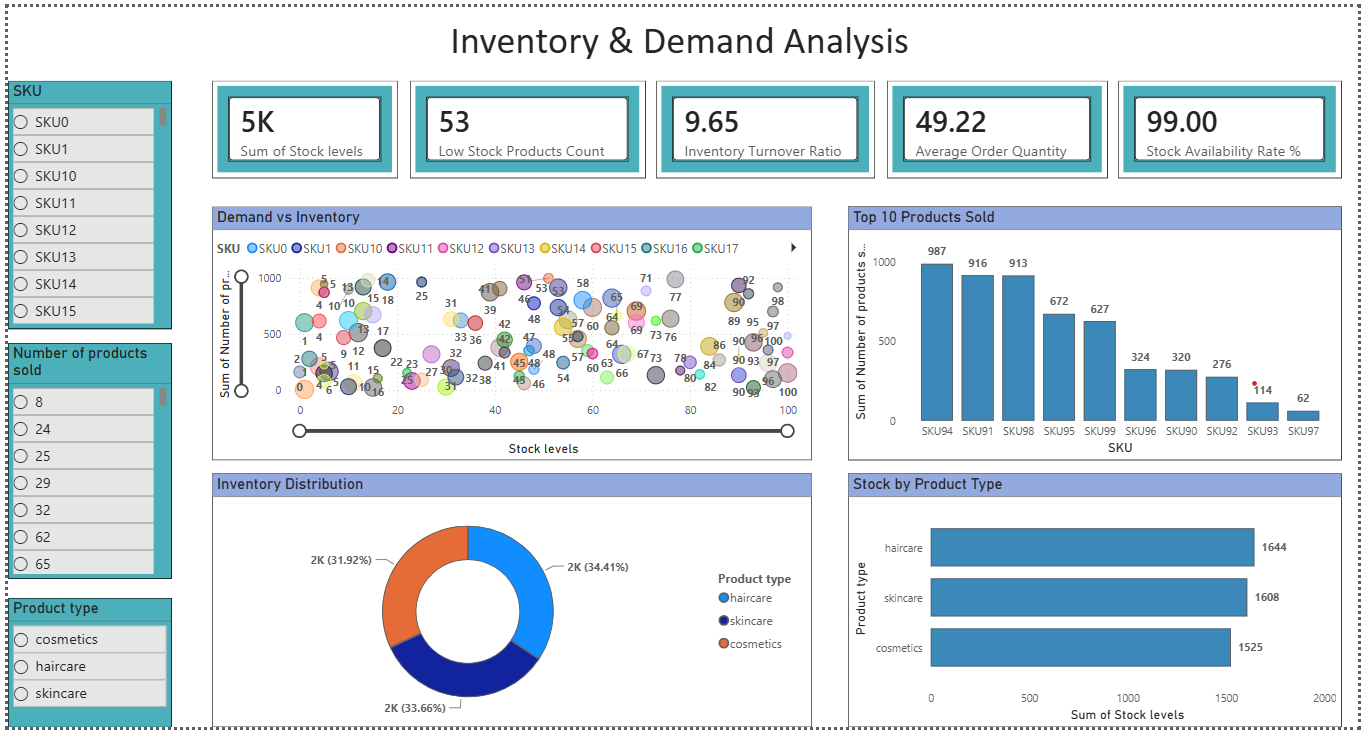

This screenshot's page, from the dashboard's own definition file:
{"tool":"powerbi","page":{"name":"Page 2","canvas":[1500,800],"ordinal":1},"visuals":[{"type":"cardVisual","fields":{"Data":["project_supply_chain_data supply_chain_data.Low Stock Products Count"]},"box":[446.7,81.7,261.7,108.3],"z":0},{"type":"cardVisual","fields":{"Data":["Sum(project_supply_chain_data supply_chain_data.Stock levels)"]},"box":[226.7,81.7,206.7,108.3],"z":1000},{"type":"cardVisual","fields":{"Data":["project_supply_chain_data supply_chain_data.Inventory Turnover Ratio"]},"box":[720,81.7,243.3,108.3],"z":2000},{"type":"cardVisual","fields":{"Data":["project_supply_chain_data supply_chain_data.Average Order Quantity"]},"box":[976.7,81.7,245,108.3],"z":3000},{"type":"cardVisual","fields":{"Data":["project_supply_chain_data supply_chain_data.Stock Availability Rate %"]},"box":[1233.3,81.7,248.3,108.3],"z":4000},{"type":"barChart","title":"Stock by Product Type","fields":{"Category":["project_supply_chain_data supply_chain_data.Product type"],"Y":["Sum(project_supply_chain_data supply_chain_data.Stock levels)"]},"box":[933.3,518.3,548.3,281.7],"z":5000},{"type":"columnChart","title":"Top 10 Products Sold","fields":{"Category":["project_supply_chain_data supply_chain_data.SKU"],"Y":["Sum(project_supply_chain_data supply_chain_data.Number of products sold)"]},"box":[933.3,221.7,548.3,281.7],"z":6000},{"type":"donutChart","title":"Inventory Distribution","fields":{"Category":["project_supply_chain_data supply_chain_data.Product type"],"Y":["Sum(project_supply_chain_data supply_chain_data.Stock levels)"]},"box":[226.7,518.3,666.7,281.7],"z":7000},{"type":"scatterChart","title":"Demand vs Inventory","fields":{"Y":["Sum(project_supply_chain_data supply_chain_data.Number of products sold)"],"X":["project_supply_chain_data supply_chain_data.Stock levels"],"Series":["project_supply_chain_data supply_chain_data.SKU"],"Size":["Sum(project_supply_chain_data supply_chain_data.Revenue generated)"]},"box":[226.7,221.7,666.7,281.7],"z":8000},{"type":"listSlicer","fields":{"Values":["project_supply_chain_data supply_chain_data.Product type"]},"box":[0,656,182,144],"z":9000},{"type":"listSlicer","fields":{"Values":["project_supply_chain_data supply_chain_data.SKU"]},"box":[0,82,182,276],"z":10000},{"type":"listSlicer","fields":{"Values":["project_supply_chain_data supply_chain_data.Number of products sold"]},"box":[0,374,182,262],"z":11000},{"type":"textbox","box":[0,0,1481.7,81.7],"z":12000}]}

Visuals, with their boxes in screenshot pixels (x1, y1, x2, y2), scaled from the page's 1500x800 canvas onto the 1362x732 screenshot:
cardVisual - project_supply_chain_data supply_chain_data.Low Stock Products Count: [left=406, top=75, right=643, bottom=174]
cardVisual - Sum(project_supply_chain_data supply_chain_data.Stock levels): [left=206, top=75, right=394, bottom=174]
cardVisual - project_supply_chain_data supply_chain_data.Inventory Turnover Ratio: [left=654, top=75, right=875, bottom=174]
cardVisual - project_supply_chain_data supply_chain_data.Average Order Quantity: [left=887, top=75, right=1109, bottom=174]
cardVisual - project_supply_chain_data supply_chain_data.Stock Availability Rate %: [left=1120, top=75, right=1345, bottom=174]
"Stock by Product Type" barChart: [left=847, top=474, right=1345, bottom=731]
"Top 10 Products Sold" columnChart: [left=847, top=203, right=1345, bottom=461]
"Inventory Distribution" donutChart: [left=206, top=474, right=811, bottom=731]
"Demand vs Inventory" scatterChart: [left=206, top=203, right=811, bottom=461]
listSlicer - project_supply_chain_data supply_chain_data.Product type: [left=0, top=600, right=165, bottom=731]
listSlicer - project_supply_chain_data supply_chain_data.SKU: [left=0, top=75, right=165, bottom=328]
listSlicer - project_supply_chain_data supply_chain_data.Number of products sold: [left=0, top=342, right=165, bottom=582]
textbox: [left=0, top=0, right=1345, bottom=75]
